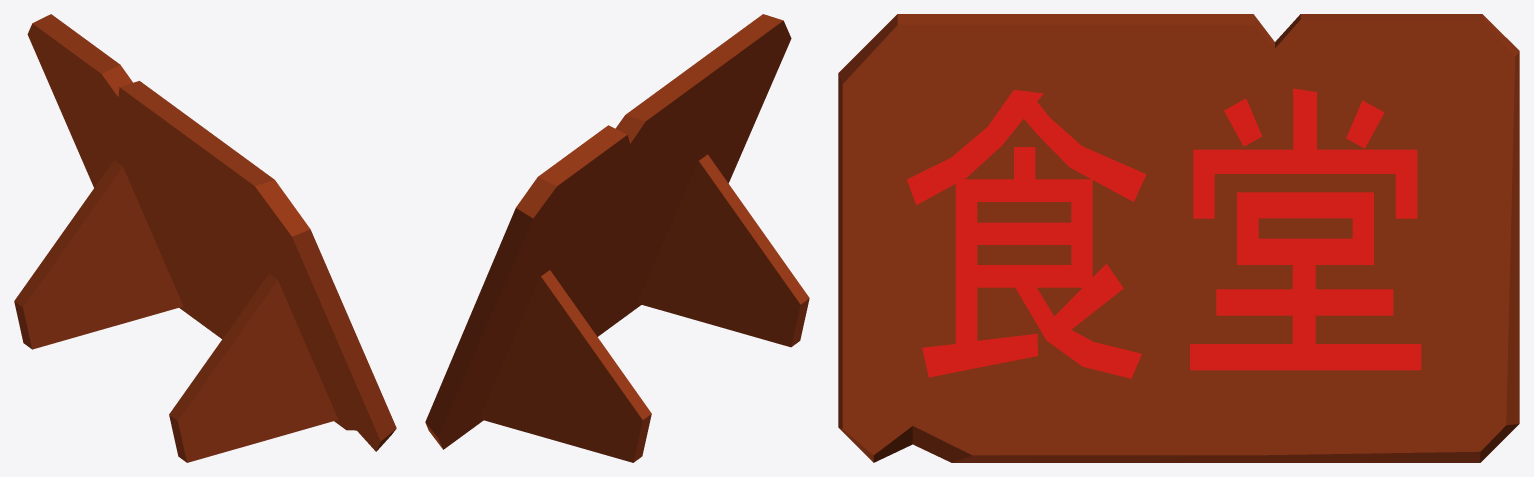
The model's file is Sign.fbx.
3 renders of one model, left to right at view 1: azimuth 30°, elevation 25°; view 2: azimuth 150°, elevation 25°; view 3: azimuth 270°, elevation 25°, orthographic. The views are drawn at different scales.
Visible parts, largest first — view 1: SM_Sign_02; view 2: SM_Sign_02; view 3: SM_Sign_02.
Boxes of the visible parts, x1=… form: SM_Sign_02: x1=14, y1=14, x2=396, y2=462; SM_Sign_02: x1=425, y1=14, x2=809, y2=462; SM_Sign_02: x1=838, y1=14, x2=1519, y2=462.
Bounding box in the file's own units: 23.5 × 36.55 × 58.9.
